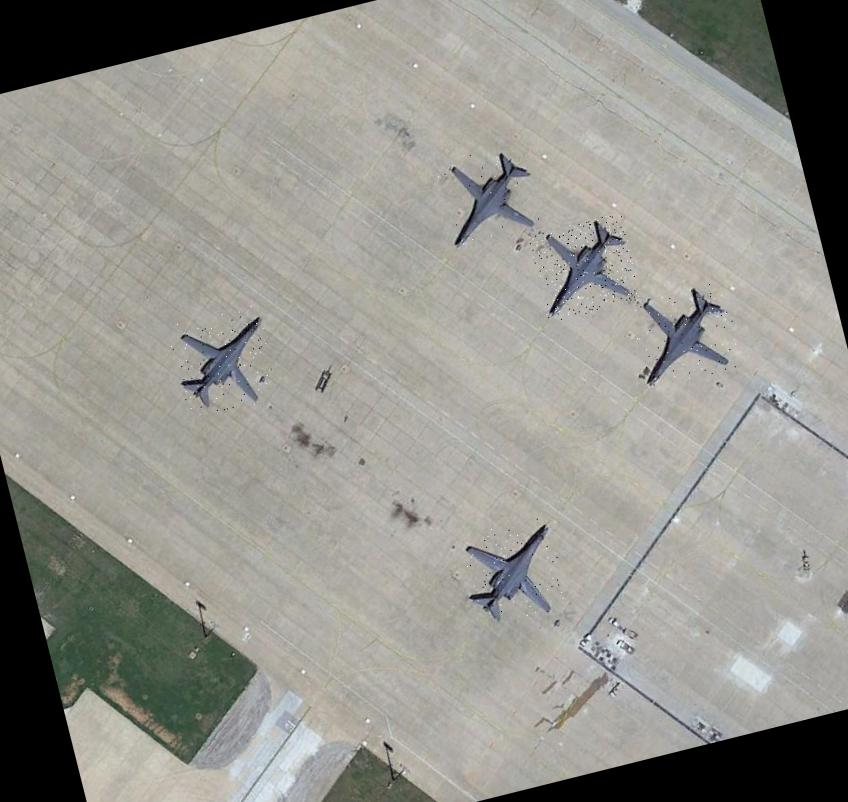A10: (166, 303, 283, 420), (453, 514, 571, 630), (626, 280, 744, 390), (527, 212, 643, 322), (434, 139, 546, 249)
